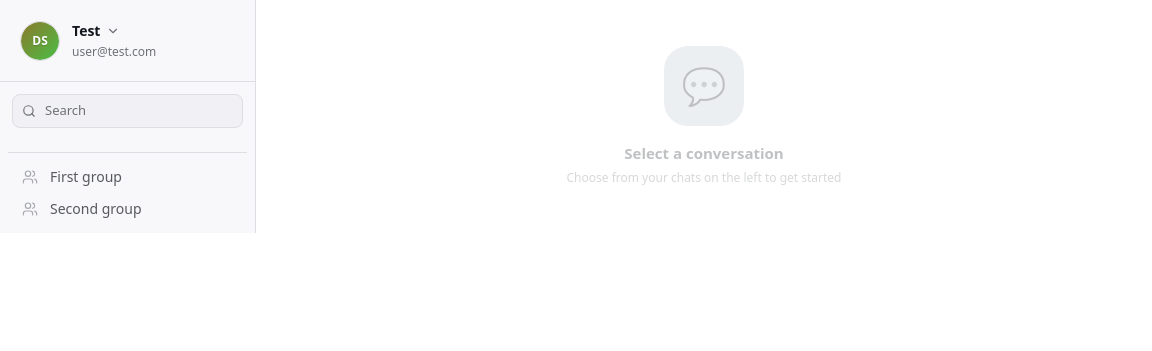
Test case: ChatWorkspace › reuses cached person profile data when switching chats with the same member
Expected: the text "First group" is shown, x1=50 y1=166 x2=122 y2=186
Step 1. Click the button "First group" → click(128, 176), box x1=8 y1=160 x2=247 y2=192
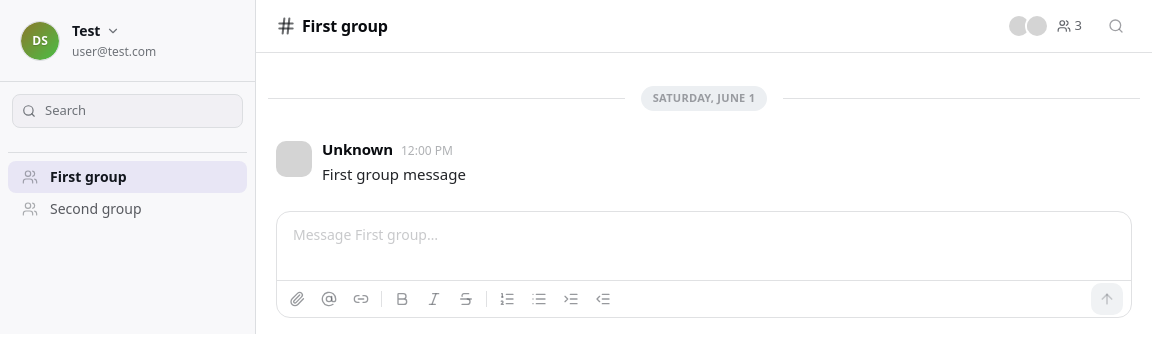
Expected: the text "First group message" is shown, x1=322 y1=164 x2=466 y2=184
Step 2. Click the button "Second group" → click(128, 208), box x1=8 y1=192 x2=247 y2=224
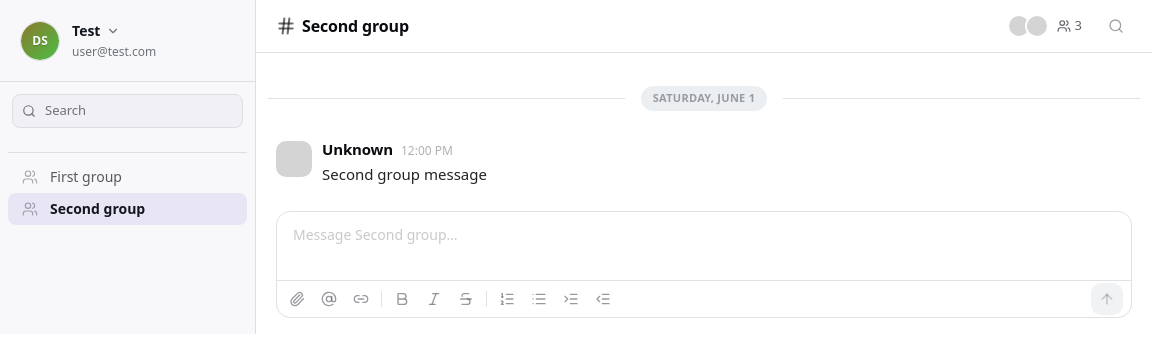
Expected: the text "Second group message" is shown, x1=322 y1=164 x2=487 y2=184
